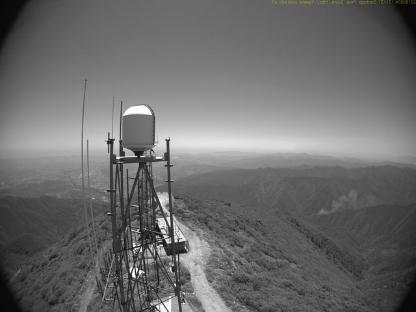smoke: (317, 186, 389, 217)
